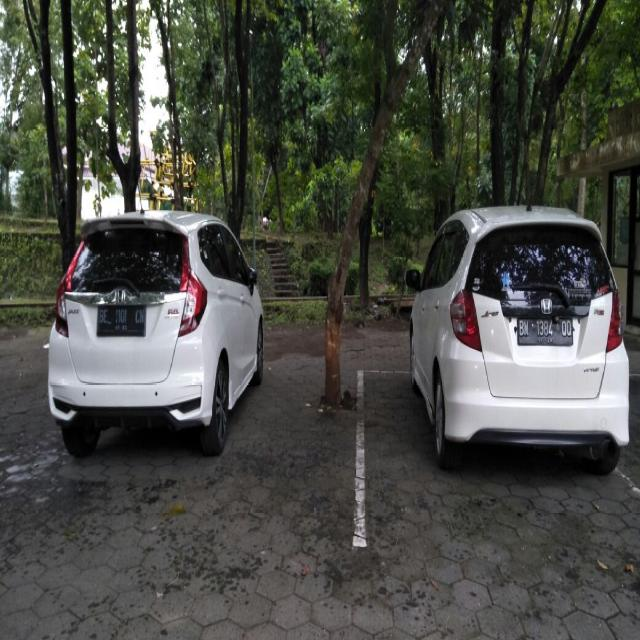plate: (517, 315, 573, 343), (96, 304, 146, 334)
